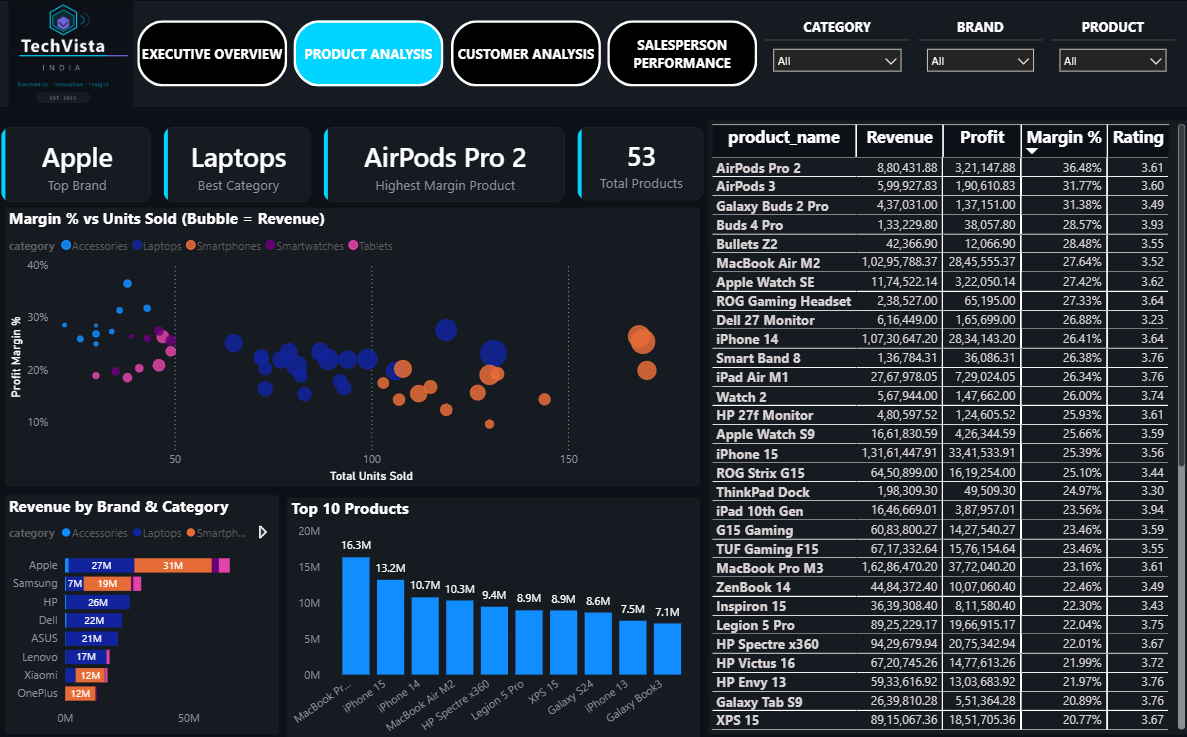

This screenshot's page, from the dashboard's own definition file:
{"tool":"powerbi","page":{"name":"Product","canvas":[1440,900],"ordinal":1},"visuals":[{"type":"scatterChart","title":"Margin % vs Units Sold (Bubble = Revenue)","fields":{"Y":["fact_sales.Profit Margin %"],"Size":["fact_sales.Total Sales"],"Category":["dim_products.product_name"],"X":["fact_sales.Total Units Sold"],"Series":["dim_products.category"]},"box":[10.6,251.8,838.5,336.3],"z":0},{"type":"barChart","title":"Revenue by Brand & Category","fields":{"Category":["dim_products.brand"],"Y":["fact_sales.Total Sales"],"Series":["dim_products.category"]},"box":[10.6,598.7,330.3,288],"z":1000},{"type":"clusteredColumnChart","title":"Top 10 Products","fields":{"Y":["fact_sales.Total Sales"],"Category":["dim_products.product_name"]},"box":[351.4,601.7,497.7,298.6],"z":2000},{"type":"shape","box":[0,3,1440.2,126.7],"z":3000},{"type":"image","box":[1.5,0,177.9,129.7],"z":4000},{"type":"actionButton","box":[170.2,24.9,181,79.9],"z":5000},{"type":"actionButton","box":[359.2,24.9,181,79.9],"z":6000},{"type":"actionButton","box":[548.2,24.9,181,79.9],"z":7000},{"type":"actionButton","box":[737.2,24.9,181,79.9],"z":8000},{"type":"pivotTable","fields":{"Values":["fact_sales.Total Sales","fact_sales.Total Profit","fact_sales.Profit Margin %","fact_sales.Avg Customer Rating"],"Rows":["dim_products.product_name"]},"box":[859.6,146.3,580.6,740.5],"z":9000},{"type":"slicer","title":"CATEGORY","fields":{"Values":["dim_products.category"]},"box":[927.5,22.6,174.9,79.9],"z":10000},{"type":"slicer","title":"BRAND","fields":{"Values":["dim_products.brand"]},"box":[1112.9,22.6,149.3,79.9],"z":11000},{"type":"slicer","title":"PRODUCT","fields":{"Values":["dim_products.product_name"]},"box":[1272.8,22.6,149.3,79.9],"z":12000},{"type":"cardVisual","fields":{"Data":["dim_products.Highest Margin Product"]},"box":[390.6,148.7,301.6,101],"z":13000},{"type":"cardVisual","fields":{"Data":["dim_products.Top Brand"]},"box":[1.5,148.7,191.5,101],"z":14000},{"type":"cardVisual","fields":{"Data":["dim_products.Best Category"]},"box":[197.6,148.7,188.5,101],"z":15000},{"type":"cardVisual","fields":{"Data":["dim_products.Total Products"]},"box":[696.7,149.5,162.9,99.5],"z":16000}]}

Visuals, with their boxes in screenshot pixels (x1, y1, x2, y2), scaled from the page's 1440x900 canvas onto the 1187x737 screenshot:
"Margin % vs Units Sold (Bubble = Revenue)" scatterChart: 9:206:700:482
"Revenue by Brand & Category" barChart: 9:490:281:726
"Top 10 Products" clusteredColumnChart: 290:493:700:736
shape: 0:2:1186:106
image: 1:0:148:106
actionButton: 140:20:289:86
actionButton: 296:20:445:86
actionButton: 452:20:601:86
actionButton: 608:20:757:86
pivotTable - fact_sales.Total Sales x fact_sales.Total Profit: 709:120:1186:726
"CATEGORY" slicer: 765:19:909:84
"BRAND" slicer: 917:19:1040:84
"PRODUCT" slicer: 1049:19:1172:84
cardVisual - dim_products.Highest Margin Product: 322:122:571:204
cardVisual - dim_products.Top Brand: 1:122:159:204
cardVisual - dim_products.Best Category: 163:122:318:204
cardVisual - dim_products.Total Products: 574:122:709:204
